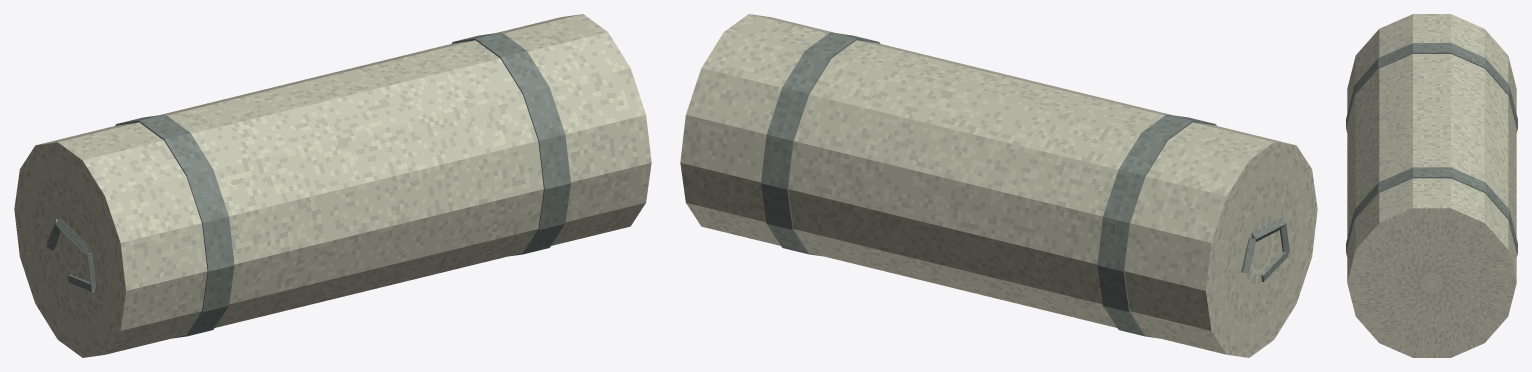
Rendered from pillow.glb.
3 renders of one model, left to right at view 1: azimuth 30°, elevation 25°; view 2: azimuth 150°, elevation 25°; view 3: azimuth 270°, elevation 25°, orthographic. The views are drawn at different scales.
Parts seen in each view (by area): view 1: block_rolled pillow, block_fabric tie -0.1216, block_fabric tie 0.1216; view 2: block_rolled pillow, block_fabric tie -0.1216, block_fabric tie 0.1216; view 3: block_rolled pillow, block_fabric tie 0.1216, block_fabric tie -0.1216.
Part boxes in pixels (left/top/right/bottom): block_rolled pillow: left=14, top=14, right=651, bottom=357; block_fabric tie -0.1216: left=115, top=114, right=234, bottom=338; block_fabric tie 0.1216: left=451, top=32, right=570, bottom=256; block_rolled pillow: left=680, top=14, right=1317, bottom=357; block_fabric tie -0.1216: left=1097, top=114, right=1216, bottom=338; block_fabric tie 0.1216: left=761, top=32, right=880, bottom=256; block_rolled pillow: left=1347, top=14, right=1516, bottom=357; block_fabric tie 0.1216: left=1346, top=167, right=1517, bottom=256; block_fabric tie -0.1216: left=1346, top=43, right=1517, bottom=132.
Size of the model in its own units: 0.384 by 0.1384 by 0.142.
1 material, 1 textured.
